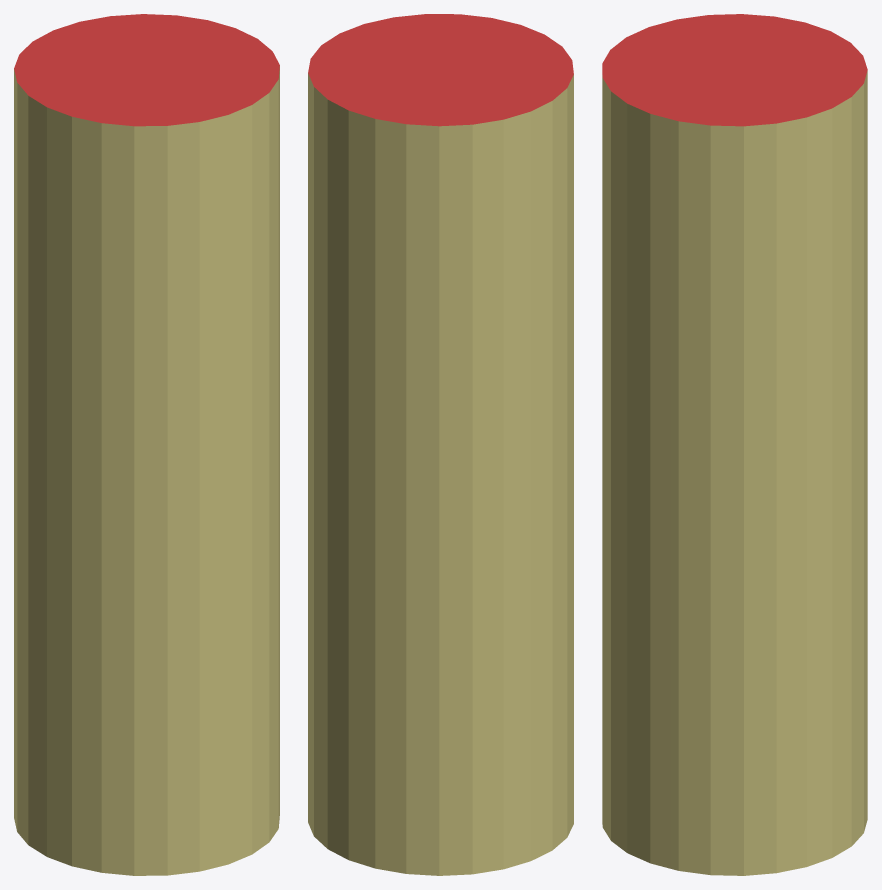
The picture shows the model from 3 angles, left to right: view 1: azimuth 30°, elevation 25°; view 2: azimuth 150°, elevation 25°; view 3: azimuth 270°, elevation 25°; orthographic projection.
Bounding box in the file's own units: 3.42 × 3.41 × 10.62.
